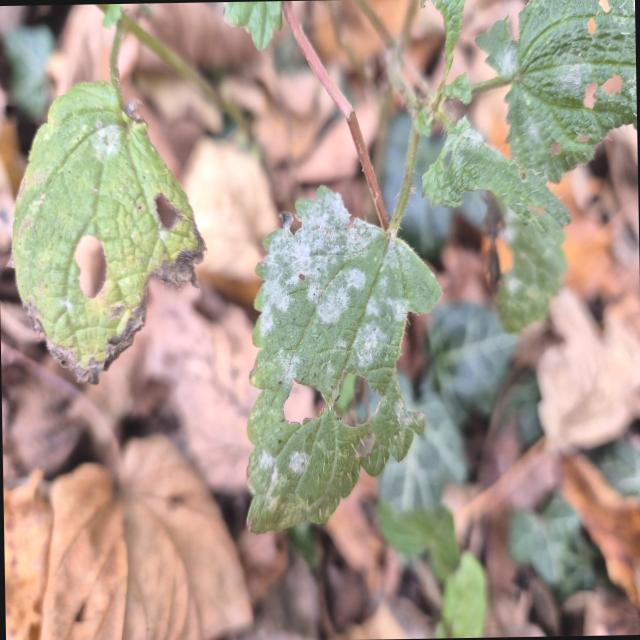powdery_mildew: (247, 186, 440, 531)
